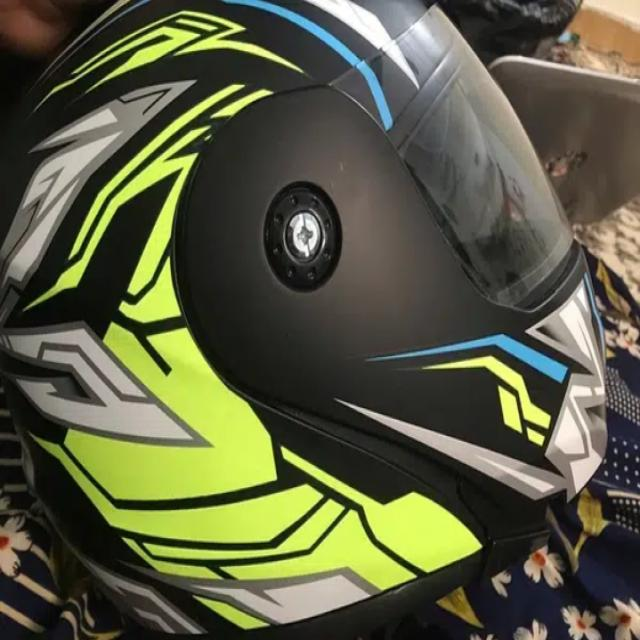Helmet: (4, 0, 637, 640)
